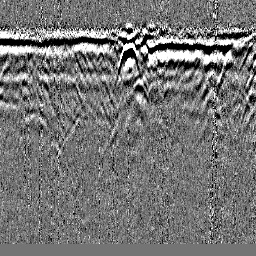cavity: (116, 41, 140, 75)
